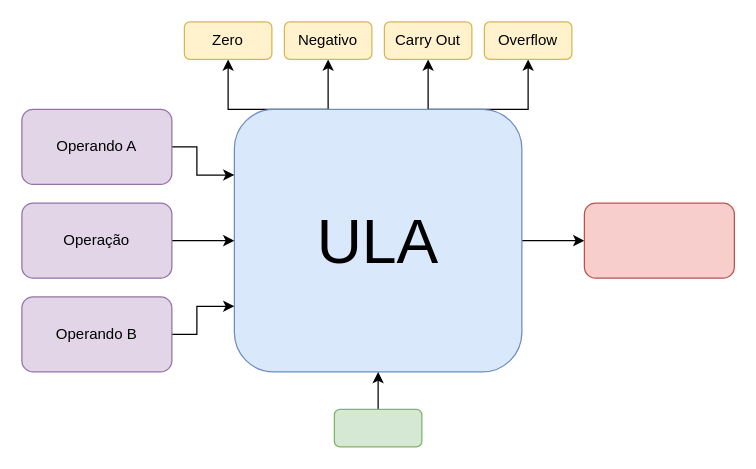
This 756x469 diagram has some shape labels left out. Here are the shapes that lost their labels. From the top down, the box of each, then its label:
(583, 202, 734, 278): Resultado (saída no display)
(333, 408, 422, 447): Clock
